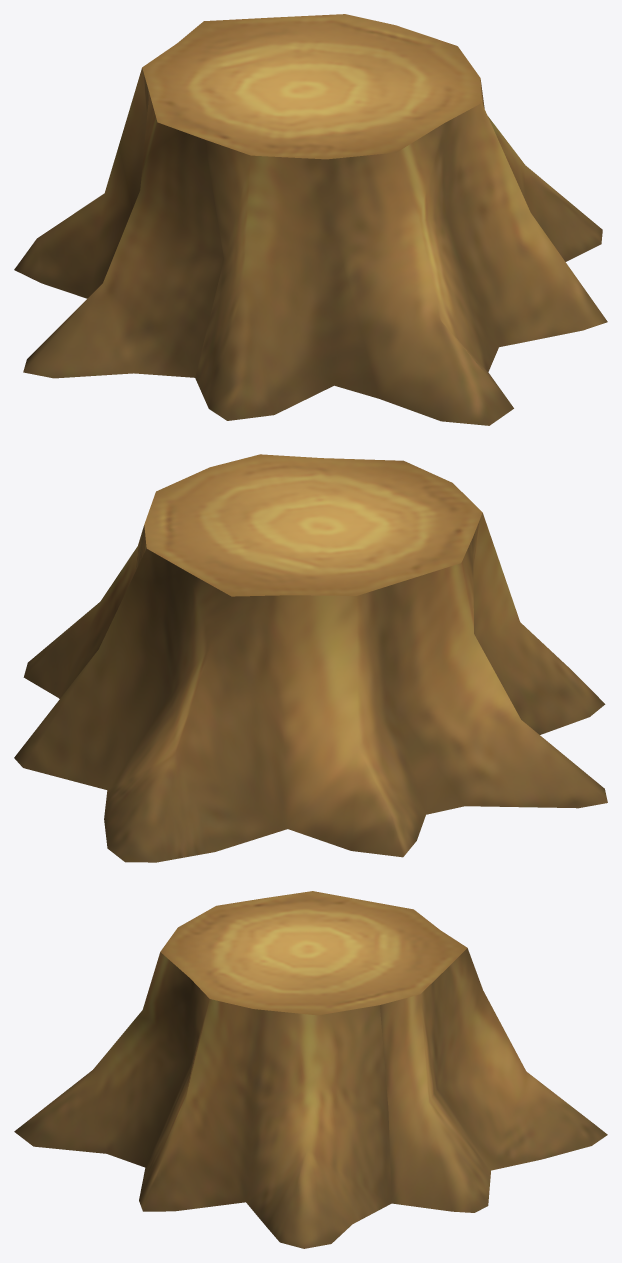
File: tree_stump_HD.fbx
3 views of the same model, one above another, from view 1: azimuth 30°, elevation 25°; view 2: azimuth 150°, elevation 25°; view 3: azimuth 270°, elevation 25° (orthographic). The views are drawn at different scales.
Parts seen in each view (by area): view 1: tree_stump_001; view 2: tree_stump_001; view 3: tree_stump_001.
Boxes of the visible parts, left/top/right/bottom form: tree_stump_001: left=14, top=14, right=607, bottom=425; tree_stump_001: left=14, top=454, right=607, bottom=862; tree_stump_001: left=14, top=891, right=607, bottom=1248.
Bounding box in the file's own units: 0.7401 × 0.257 × 0.7798.
